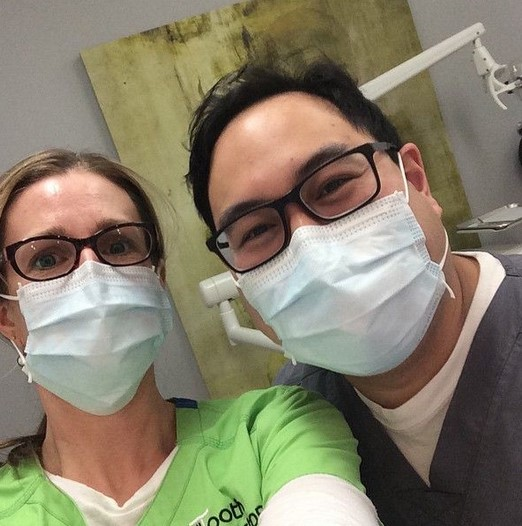face_with_mask: (184, 52, 455, 380), (0, 148, 174, 417)
